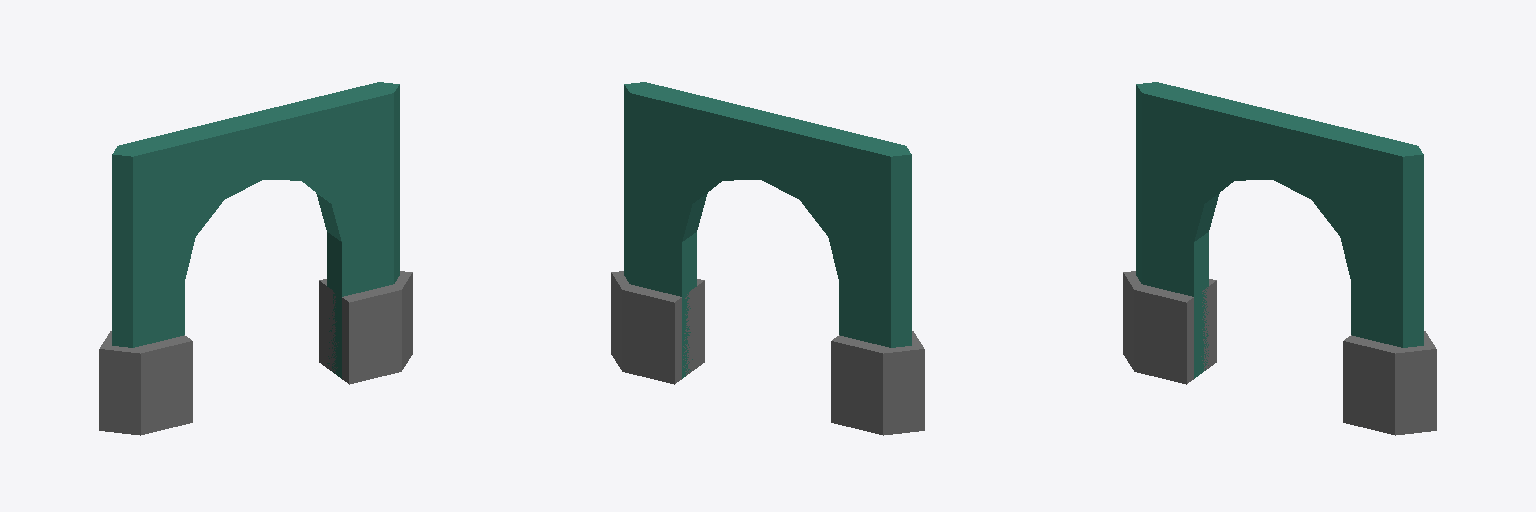
The model's file is Wall_Gateway_Small.obj.
3 views of the same model, side by side, from view 1: azimuth 30°, elevation 25°; view 2: azimuth 150°, elevation 25°; view 3: azimuth 330°, elevation 25° (orthographic).
Visible parts, largest first — view 1: object2, object3, object1; view 2: object2, object3, object1; view 3: object2, object1, object3.
Part boxes in pixels (bbox=[...]): object2: bbox=[112, 82, 399, 378]; object3: bbox=[99, 331, 192, 435]; object1: bbox=[319, 271, 412, 384]; object2: bbox=[624, 82, 911, 378]; object3: bbox=[831, 331, 924, 435]; object1: bbox=[611, 271, 704, 384]; object2: bbox=[1136, 82, 1423, 378]; object1: bbox=[1343, 331, 1436, 435]; object3: bbox=[1123, 271, 1216, 384].
Size of the model in its own units: 1.2 by 1 by 0.2.